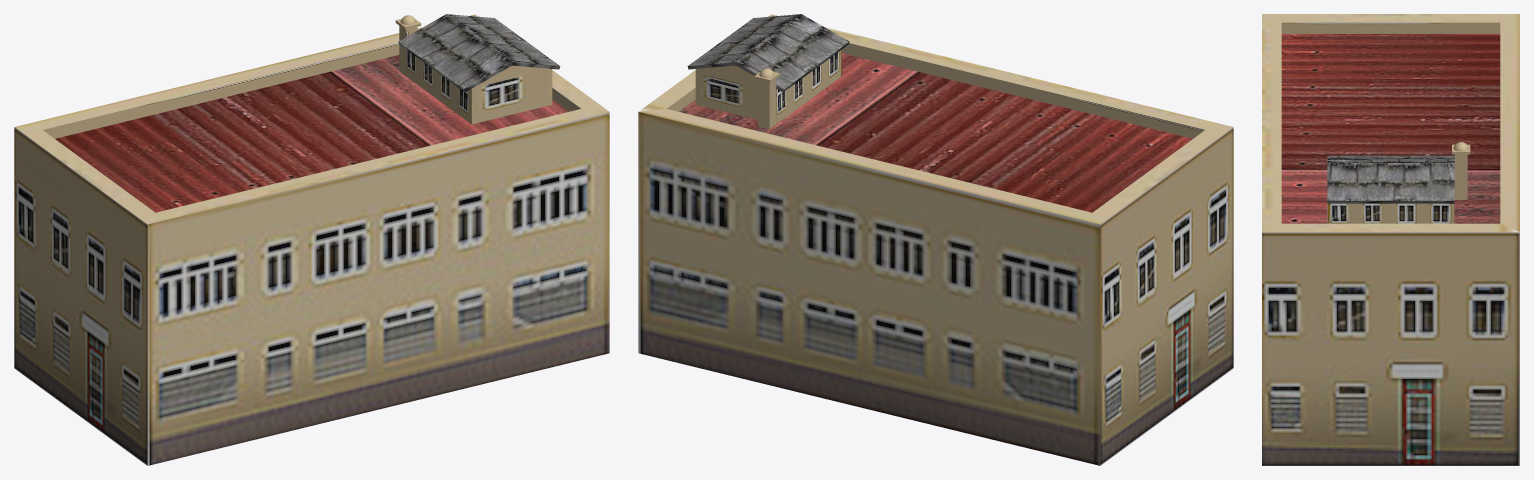
Rendered from monoblockbloquederecho.fbx.
The picture shows the model from 3 angles, left to right: view 1: azimuth 30°, elevation 25°; view 2: azimuth 150°, elevation 25°; view 3: azimuth 270°, elevation 25°; orthographic projection. The views are drawn at different scales.
Parts seen in each view (by area): view 1: Cube, Cube.003, Cube.001; view 2: Cube, Cube.003, Cube.001, Cube.004; view 3: Cube, Cube.003, Cube.001, Cube.004.
Part boxes in pixels (x1,y1,x2,y2): Cube: [14, 14, 609, 465]; Cube.003: [398, 14, 560, 92]; Cube.001: [406, 50, 552, 124]; Cube: [638, 14, 1233, 465]; Cube.003: [687, 14, 849, 92]; Cube.001: [695, 50, 841, 123]; Cube.004: [758, 79, 776, 128]; Cube: [1262, 14, 1519, 465]; Cube.003: [1327, 155, 1454, 203]; Cube.001: [1327, 203, 1454, 223]; Cube.004: [1454, 154, 1467, 199].
Bounding box in the file's own units: 400 × 237 × 200.
